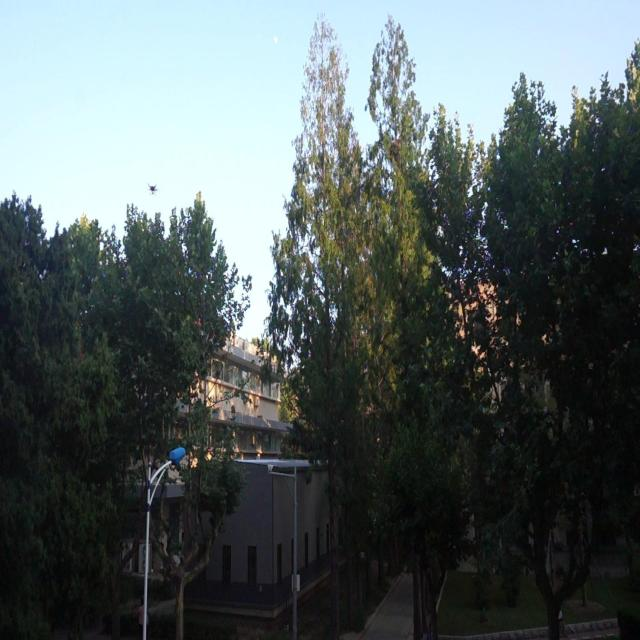drone: (143, 180, 160, 198)
